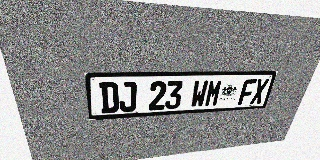2: (149, 81, 167, 110)
3: (165, 80, 183, 109)
D: (99, 82, 119, 113)
F: (237, 79, 257, 105)
J: (119, 81, 137, 112)
M: (204, 80, 223, 107)
W: (190, 80, 209, 108)
X: (250, 79, 269, 104)
